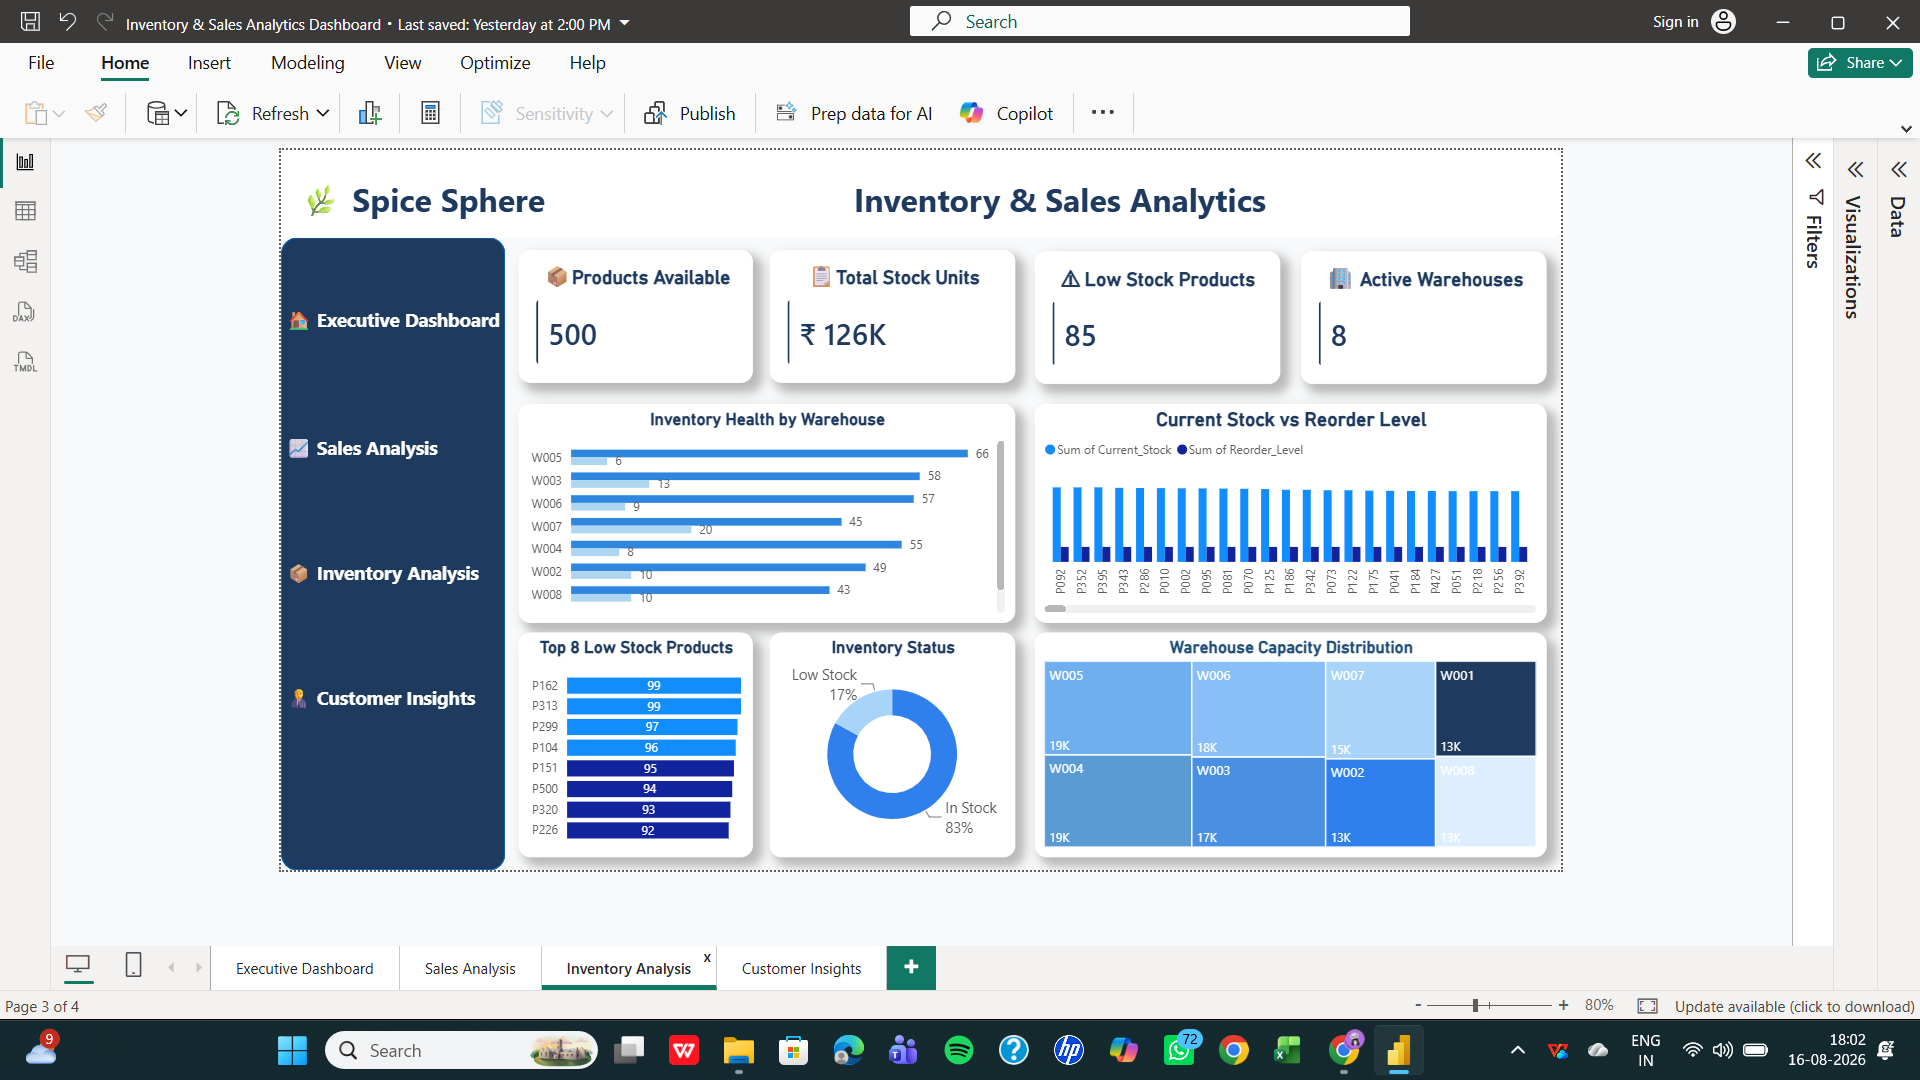

Layout of this report page (visuals, bound fields, positions):
{"tool":"powerbi","page":{"name":"Inventory Analysis","canvas":[1280,720],"ordinal":2},"visuals":[{"type":"shape","box":[0,87.1,224.3,632.9],"z":0},{"type":"textbox","box":[0,152.9,247.1,54.3],"z":1000},{"type":"textbox","box":[0,280.5,224.3,51.4],"z":2000},{"type":"textbox","box":[0,405.2,224.3,51.4],"z":3000},{"type":"textbox","box":[0,530,224.3,51.4],"z":4000},{"type":"textbox","box":[0,0,1280.3,87.8],"z":5000},{"type":"cardVisual","title":"📦Products Available","fields":{"Data":["Inventory.Products Available"]},"box":[237.4,100.2,234.6,133.1],"z":6000},{"type":"cardVisual","title":"📋Total Stock Units","fields":{"Data":["Inventory.Total Stock Units"]},"box":[488.5,100.2,245.6,133.1],"z":7000},{"type":"cardVisual","title":"⚠ Low Stock Products","fields":{"Data":["Customers.Low Stock Products"]},"box":[753.3,101.5,245.6,133.1],"z":8000},{"type":"cardVisual","title":"🏢 Active Warehouses","fields":{"Data":["Customers.Active Warehouses"]},"box":[1019.6,101.5,245.6,133.1],"z":9000},{"type":"clusteredBarChart","title":"Inventory Health by Warehouse","fields":{"Category":["Inventory.Warehouse_ID"],"Y":["CountNonNull(Inventory.Product_ID)"],"Series":["Inventory.Stock Status"]},"box":[237.4,253.9,496.7,219.6],"z":10000},{"type":"clusteredColumnChart","title":"Current Stock vs Reorder Level","fields":{"Category":["Inventory.Product_ID"],"Y":["Sum(Inventory.Current_Stock)","Sum(Inventory.Reorder_Level)"]},"box":[753.3,253.9,511.8,219.6],"z":11000},{"type":"clusteredBarChart","title":"Top 8 Low Stock Products","fields":{"Y":["Sum(Inventory.Current_Stock)"],"Category":["Inventory.Product_ID"]},"box":[237.4,483,234.6,225],"z":12000},{"type":"donutChart","title":"Inventory Status","fields":{"Category":["Inventory.Stock Status"],"Y":["CountNonNull(Inventory.Product_ID)"]},"box":[488.5,483,245.6,225],"z":13000},{"type":"treemap","title":"Warehouse Capacity Distribution","fields":{"Details":["Inventory.Warehouse_ID"],"Values":["Sum(Inventory.Current_Stock)"]},"box":[753.3,483,511.8,225],"z":14000}]}

Visuals, with their boxes on the page's 1280x720 design canvas (x1, y1, x2, y2). These are canvas units, not pixel positions in the 1920x1080 screenshot, which may show the page scaled, cropped or inside an application window:
shape: x1=0 y1=87 x2=224 y2=720
textbox: x1=0 y1=153 x2=247 y2=207
textbox: x1=0 y1=280 x2=224 y2=332
textbox: x1=0 y1=405 x2=224 y2=457
textbox: x1=0 y1=530 x2=224 y2=581
textbox: x1=0 y1=0 x2=1280 y2=88
"📦Products Available" cardVisual: x1=237 y1=100 x2=472 y2=233
"📋Total Stock Units" cardVisual: x1=488 y1=100 x2=734 y2=233
"⚠ Low Stock Products" cardVisual: x1=753 y1=102 x2=999 y2=235
"🏢 Active Warehouses" cardVisual: x1=1020 y1=102 x2=1265 y2=235
"Inventory Health by Warehouse" clusteredBarChart: x1=237 y1=254 x2=734 y2=474
"Current Stock vs Reorder Level" clusteredColumnChart: x1=753 y1=254 x2=1265 y2=474
"Top 8 Low Stock Products" clusteredBarChart: x1=237 y1=483 x2=472 y2=708
"Inventory Status" donutChart: x1=488 y1=483 x2=734 y2=708
"Warehouse Capacity Distribution" treemap: x1=753 y1=483 x2=1265 y2=708
